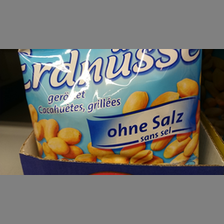nuts: (17, 49, 203, 165)
